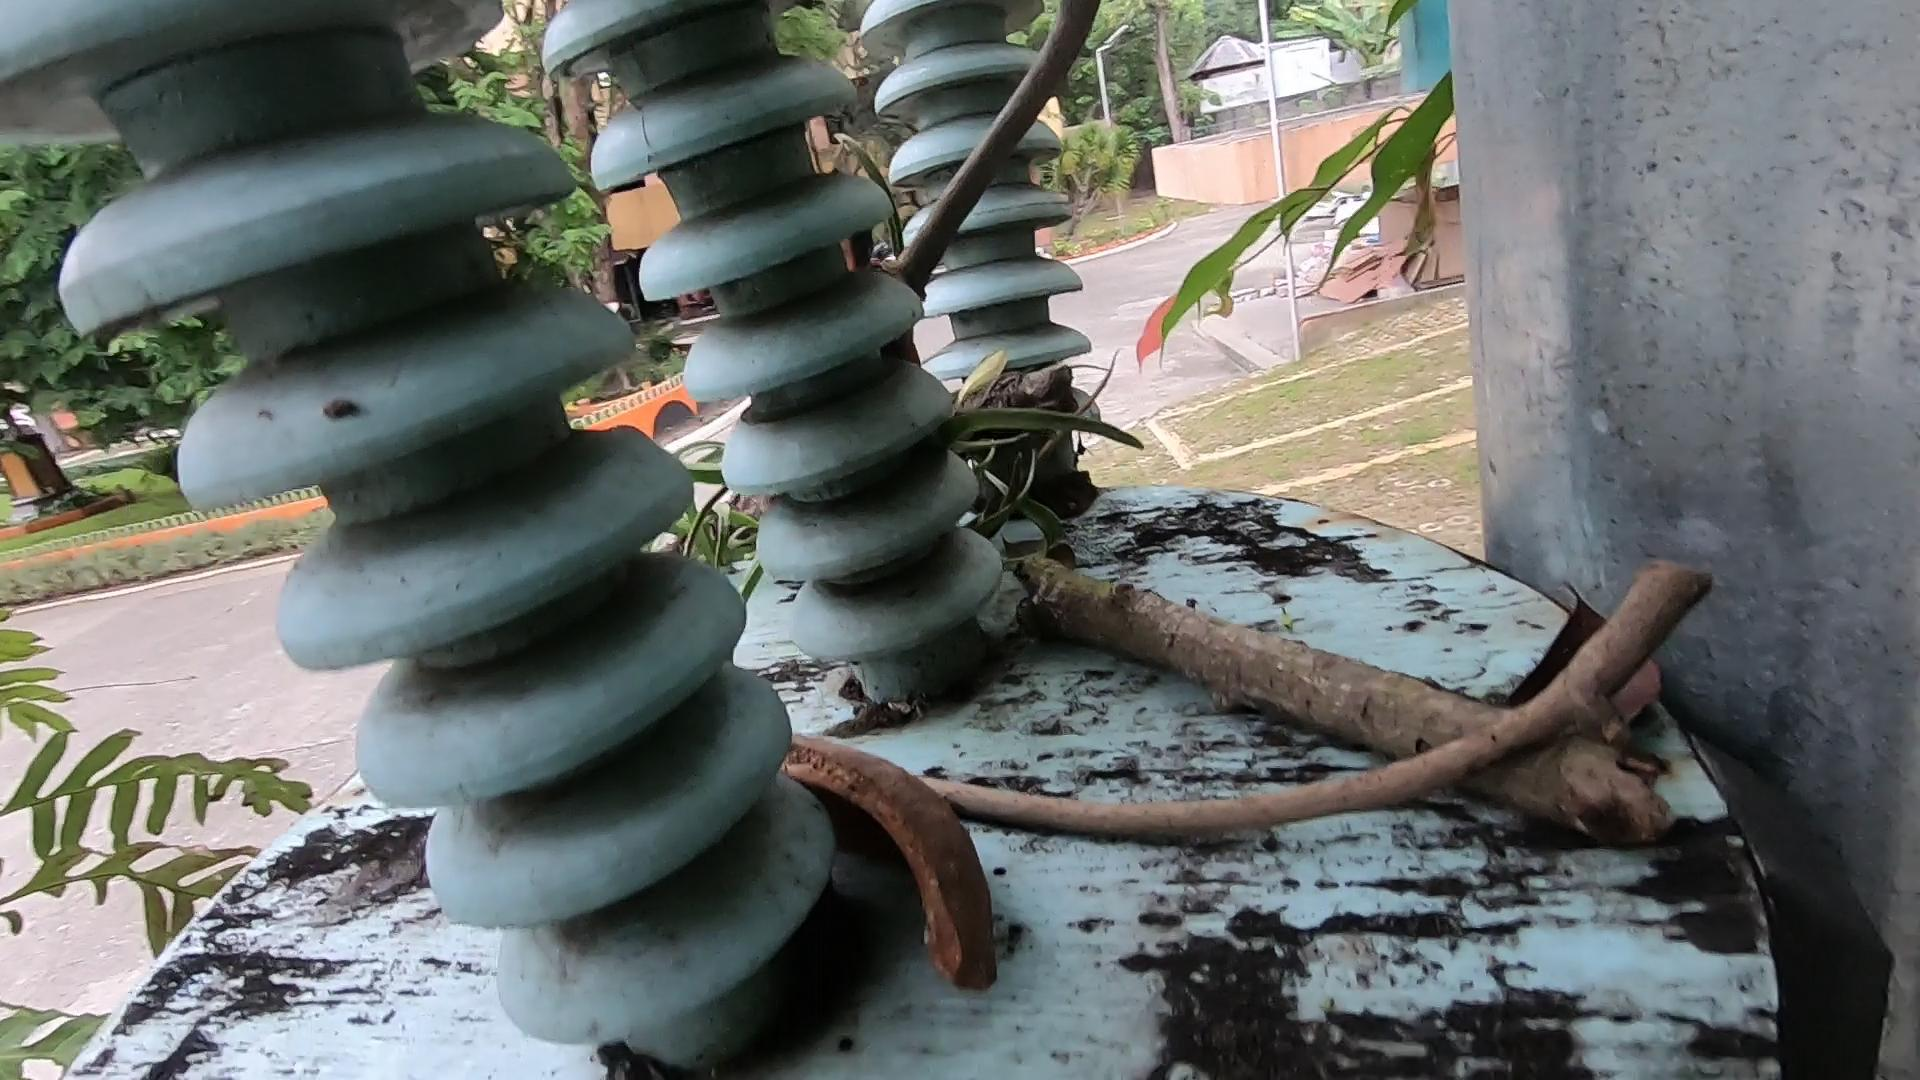branch with leaves: (847, 355, 1712, 833)
leaf: (1543, 601, 1685, 764)
mahogany fruit: (791, 688, 1058, 1055)
tree branch: (814, 703, 1648, 923), (847, 38, 1168, 365)
